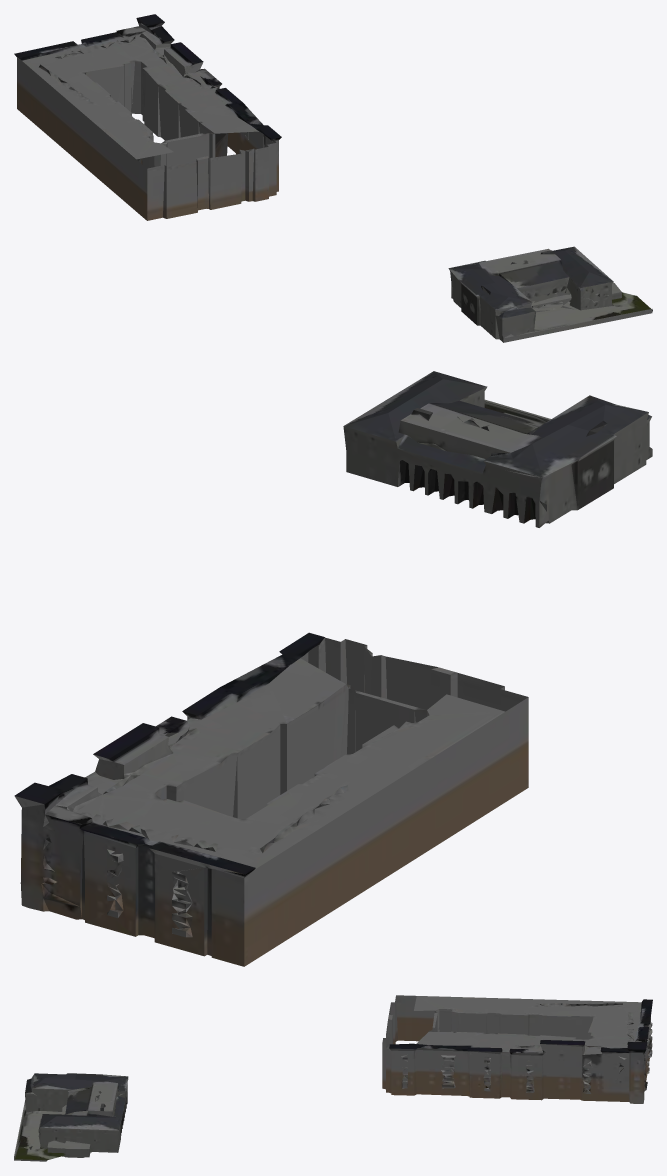
File: t_-5_-2.coat.glb
The picture shows the model from 3 angles, top to bottom: view 1: azimuth 30°, elevation 25°; view 2: azimuth 150°, elevation 25°; view 3: azimuth 270°, elevation 25°; orthographic projection. The views are drawn at different scales.
Visible parts, largest first — view 1: far; view 2: far; view 3: far.
Boxes of the visible parts, x1,y1,x2,y2 form: far: [14, 14, 652, 342]; far: [14, 371, 652, 966]; far: [14, 995, 652, 1161].
Bounding box in the file's own units: 115 × 24.53 × 254.
Materials: 1 (1 with a texture image).
